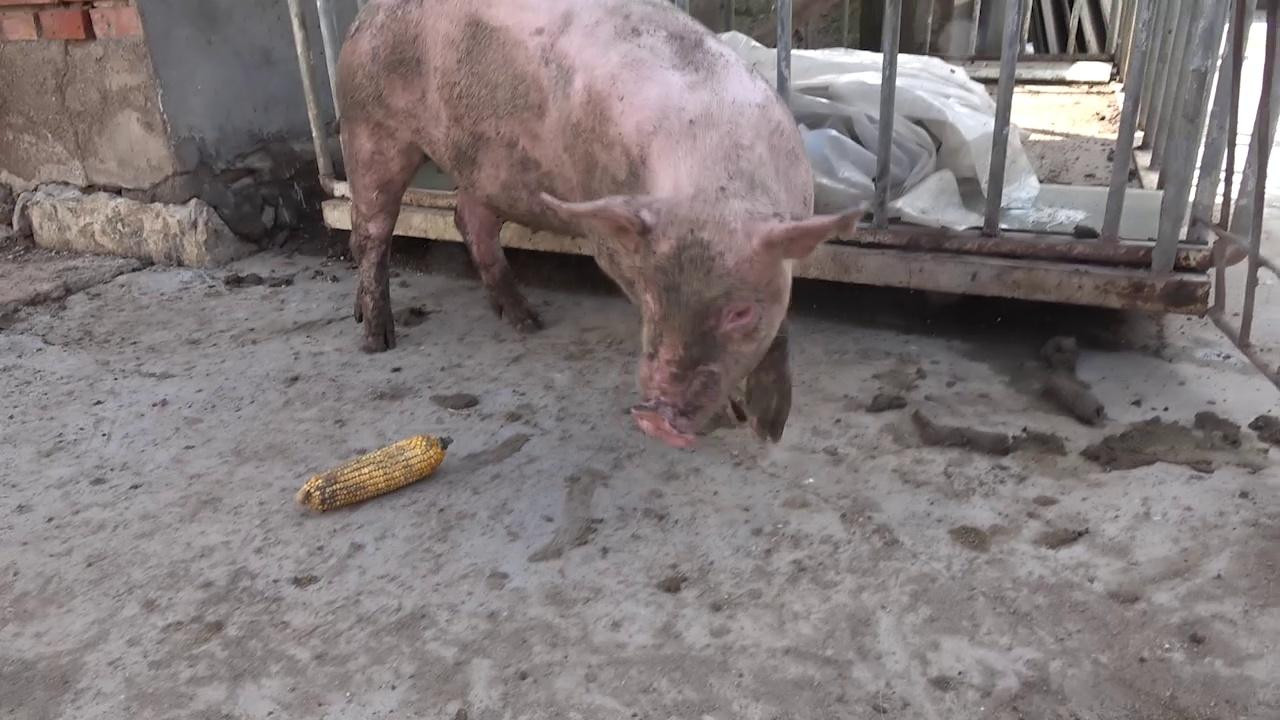Face: (529, 177, 884, 457)
